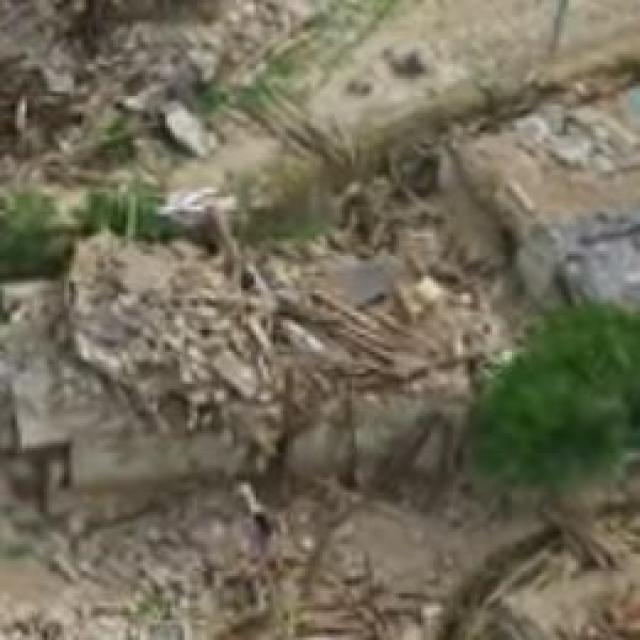collapsed_building: (27, 214, 638, 475), (49, 0, 633, 202)
